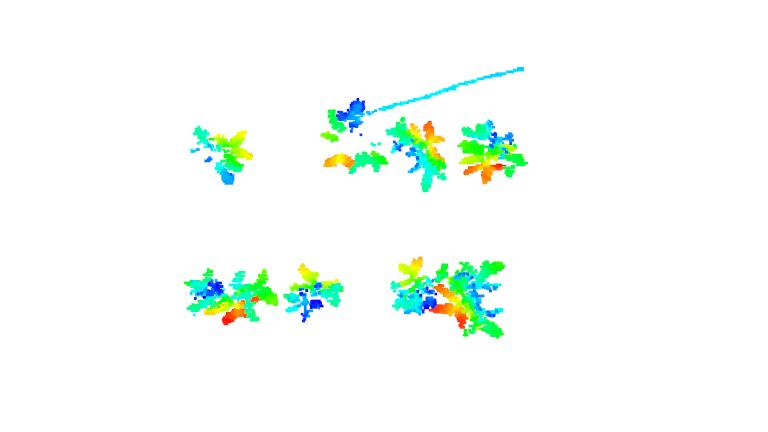chickpea: (434, 260, 507, 338), (183, 267, 280, 325), (320, 99, 388, 174), (458, 121, 530, 186), (388, 119, 451, 192), (186, 123, 254, 186), (280, 263, 345, 324), (386, 256, 447, 316)
